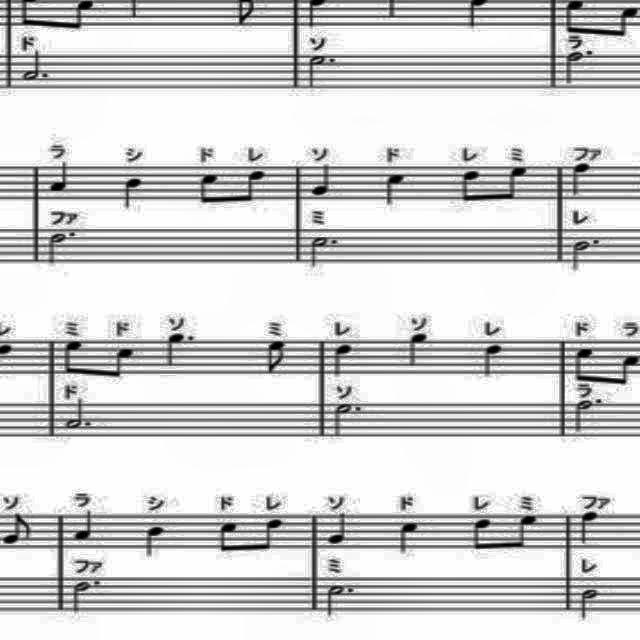Eighth-note: (192, 166, 224, 214), (497, 161, 533, 203), (467, 513, 498, 561), (233, 168, 269, 208), (511, 511, 542, 557), (569, 340, 597, 388), (105, 340, 138, 380), (258, 339, 290, 379), (457, 166, 488, 207), (1, 510, 36, 546), (58, 336, 86, 376), (258, 514, 286, 552), (217, 518, 241, 558)
Half-dot: (41, 227, 79, 270), (18, 48, 58, 86), (325, 580, 363, 618), (307, 232, 343, 272), (331, 401, 363, 444), (562, 47, 594, 89), (69, 576, 105, 612), (306, 54, 338, 94), (572, 396, 604, 436), (572, 234, 600, 272), (62, 397, 94, 429)
Half-note: (574, 584, 602, 620)
Quarter-dot: (163, 328, 197, 368)
Quarter-note: (308, 159, 340, 199), (72, 508, 100, 548), (143, 524, 171, 564), (396, 518, 424, 558), (404, 332, 432, 372), (325, 511, 353, 549), (569, 160, 595, 200), (578, 509, 606, 546), (482, 341, 506, 384), (384, 170, 410, 206), (332, 341, 356, 379), (121, 173, 145, 211), (48, 157, 72, 195)
